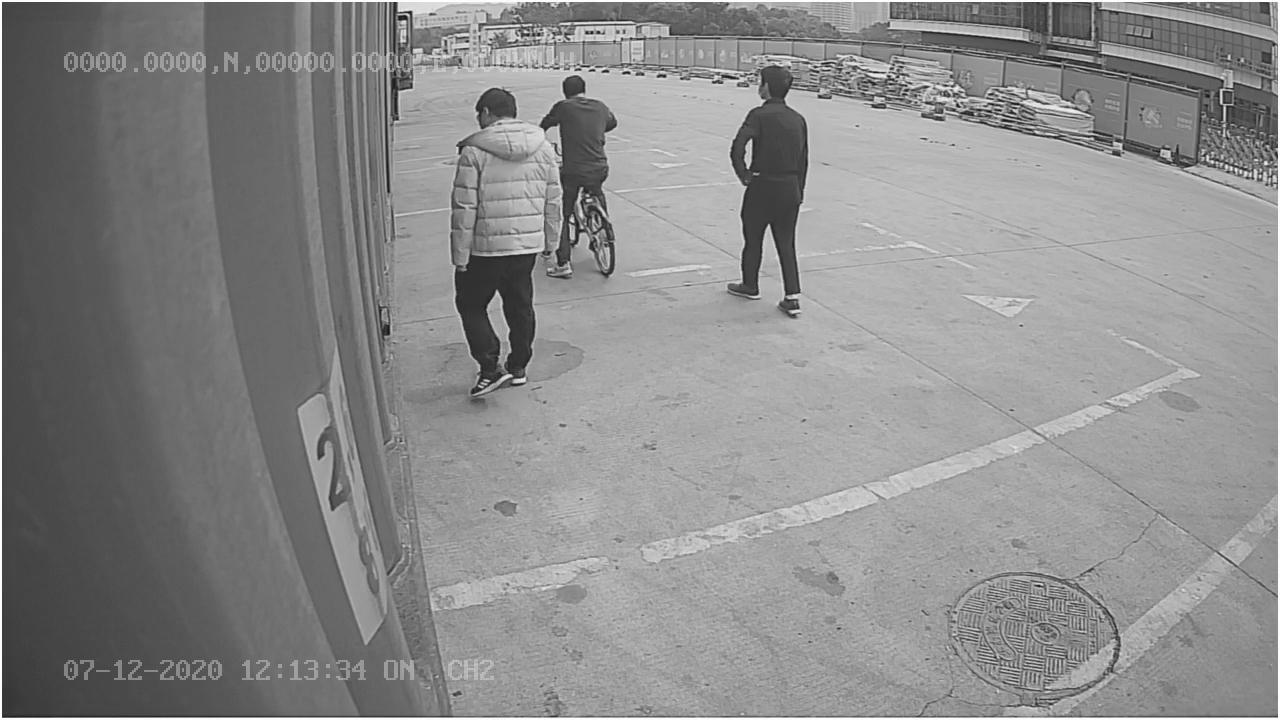person: (723, 61, 810, 318)
